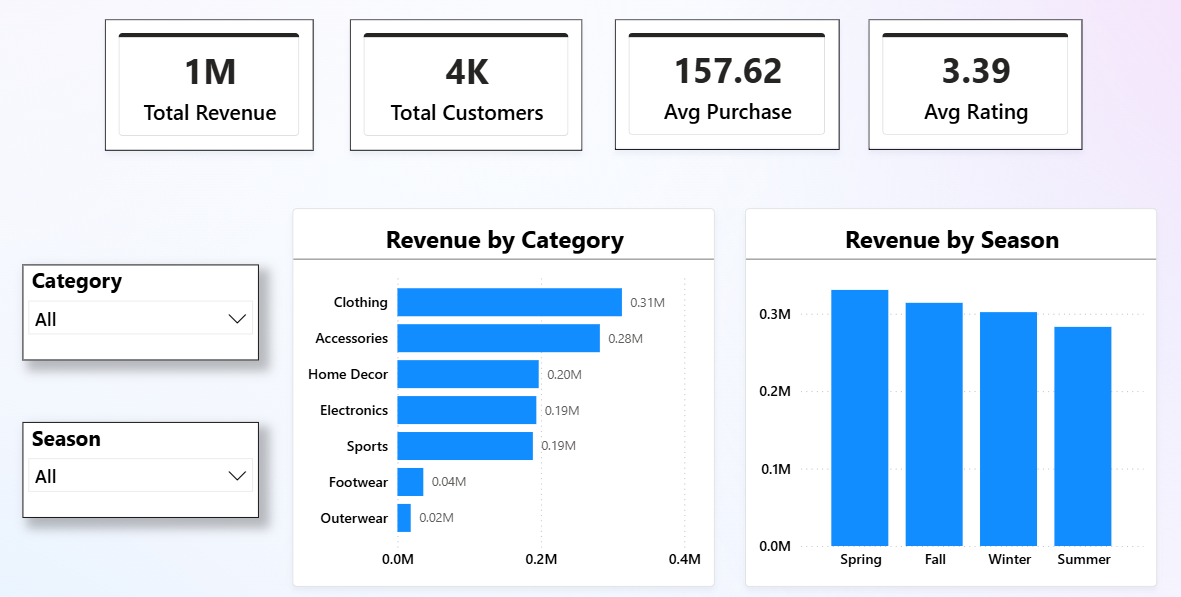

Layout of this report page (visuals, bound fields, positions):
{"tool":"powerbi","page":{"name":"Overview","canvas":[1200,700],"ordinal":1},"visuals":[{"type":"cardVisual","fields":{"Data":["Project_Shopping_Trends.Total Revenue"]},"box":[137.9,59.4,198.5,124.8],"z":0},{"type":"cardVisual","fields":{"Data":["Project_Shopping_Trends.Avg Rating"]},"box":[864.3,59.4,203.3,123.6],"z":1000},{"type":"cardVisual","fields":{"Data":["Project_Shopping_Trends.Total Customers"]},"box":[370.9,59.4,221.1,124.8],"z":2000},{"type":"cardVisual","fields":{"Data":["Project_Shopping_Trends.Avg Purchase"]},"box":[623,59.4,214,123.6],"z":3000},{"type":"barChart","title":"Revenue by Category","fields":{"Category":["Project_Shopping_Trends.Category"],"Y":["Project_Shopping_Trends.Total Revenue"]},"box":[316.2,239,401.8,360.2],"z":4000},{"type":"columnChart","title":"Revenue by Season","fields":{"Category":["Project_Shopping_Trends.Season"],"Y":["Project_Shopping_Trends.Total Revenue"]},"box":[746.6,239,392.3,360.2],"z":5000},{"type":"slicer","fields":{"Values":["Project_Shopping_Trends.Category"]},"box":[59.4,292.5,224.7,91.5],"z":6000},{"type":"slicer","fields":{"Values":["Project_Shopping_Trends.Season"]},"box":[59.4,442.3,224.7,91.5],"z":7000}]}

Visuals, with their boxes on the page's 1200x700 design canvas (x1, y1, x2, y2). These are canvas units, not pixel positions in the 1181x597 screenshot, which may show the page scaled, cropped or inside an application window:
cardVisual - Project_Shopping_Trends.Total Revenue: locate(138, 59, 336, 184)
cardVisual - Project_Shopping_Trends.Avg Rating: locate(864, 59, 1068, 183)
cardVisual - Project_Shopping_Trends.Total Customers: locate(371, 59, 592, 184)
cardVisual - Project_Shopping_Trends.Avg Purchase: locate(623, 59, 837, 183)
"Revenue by Category" barChart: locate(316, 239, 718, 599)
"Revenue by Season" columnChart: locate(747, 239, 1139, 599)
slicer - Project_Shopping_Trends.Category: locate(59, 292, 284, 384)
slicer - Project_Shopping_Trends.Season: locate(59, 442, 284, 534)
